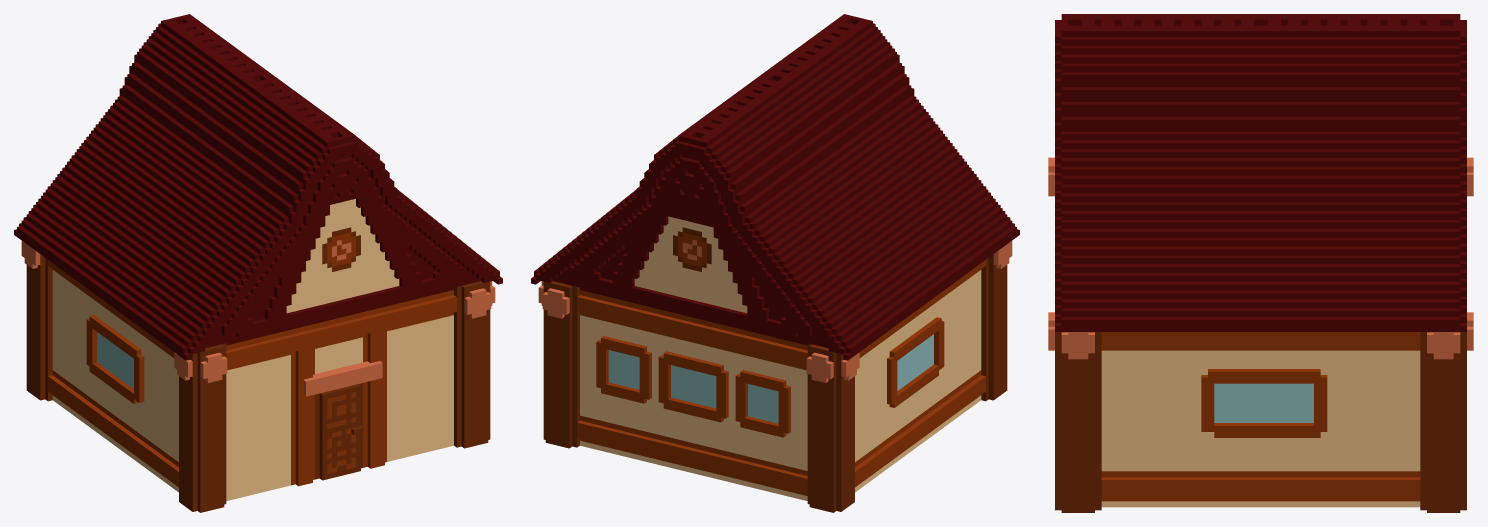
Rendered from FeatherHouse1.obj.
3 views of the same model, side by side, from view 1: azimuth 30°, elevation 25°; view 2: azimuth 150°, elevation 25°; view 3: azimuth 270°, elevation 25° (orthographic). The views are drawn at different scales.
Bounding box in the file's own units: 66 × 67 × 64.
1 material, 1 textured.
